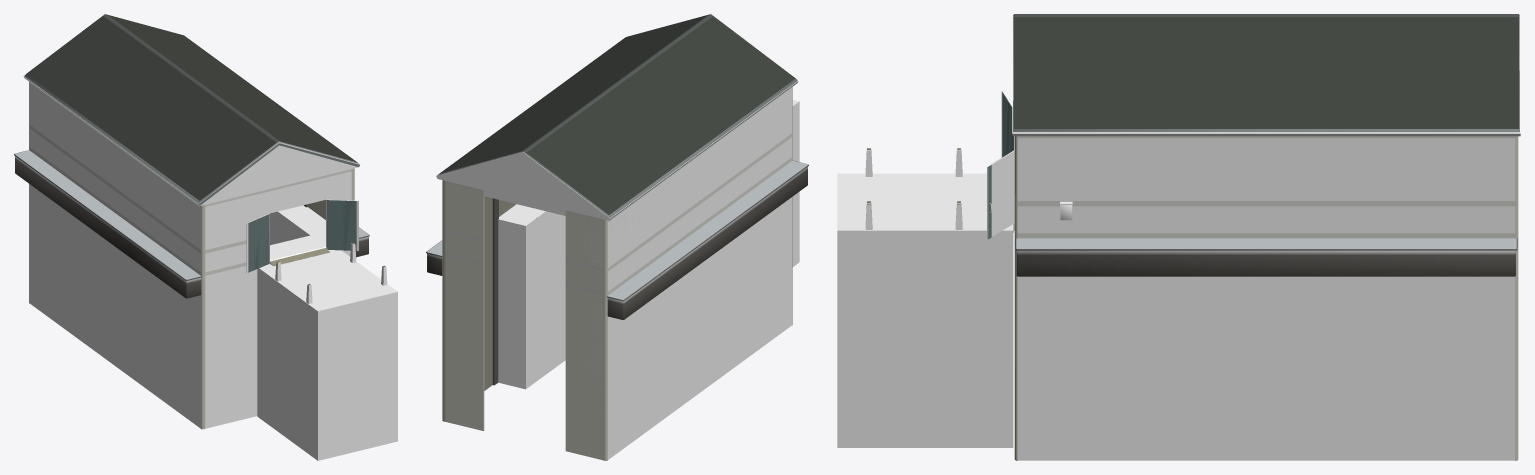
Rendered from eca_fv_boat_house.DAE.
The picture shows the model from 3 angles, left to right: view 1: azimuth 30°, elevation 25°; view 2: azimuth 150°, elevation 25°; view 3: azimuth 270°, elevation 25°; orthographic projection. The views are drawn at different scales.
Parts seen in each view (by area): view 1: Colmesh-1, eca_fv_boat_house350, eca_fv_boat_house50; view 2: eca_fv_boat_house350, Colmesh-1; view 3: Colmesh-1, eca_fv_boat_house350.
Boxes of the visible parts, x1,y1,x2,y2 form: Colmesh-1: (24,76,397,460); eca_fv_boat_house350: (14,14,385,429); eca_fv_boat_house50: (248,200,356,270); eca_fv_boat_house350: (426,14,808,460); Colmesh-1: (436,81,799,459); Colmesh-1: (837,15,1520,460); eca_fv_boat_house350: (867,14,1519,460).
Size of the model in its own units: 9.66 by 21.37 by 13.55.
